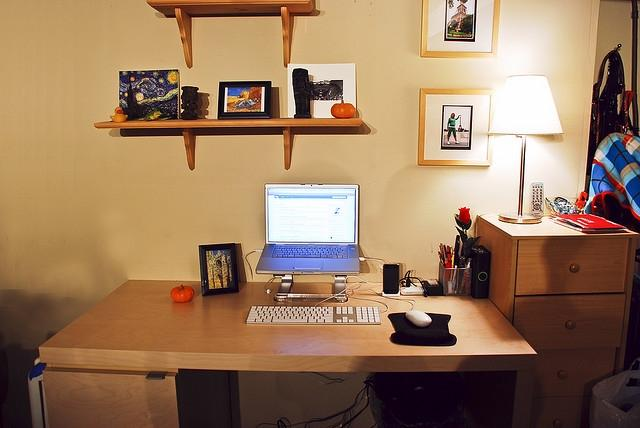pumpkin: (330, 100, 356, 118), (170, 284, 194, 303)
